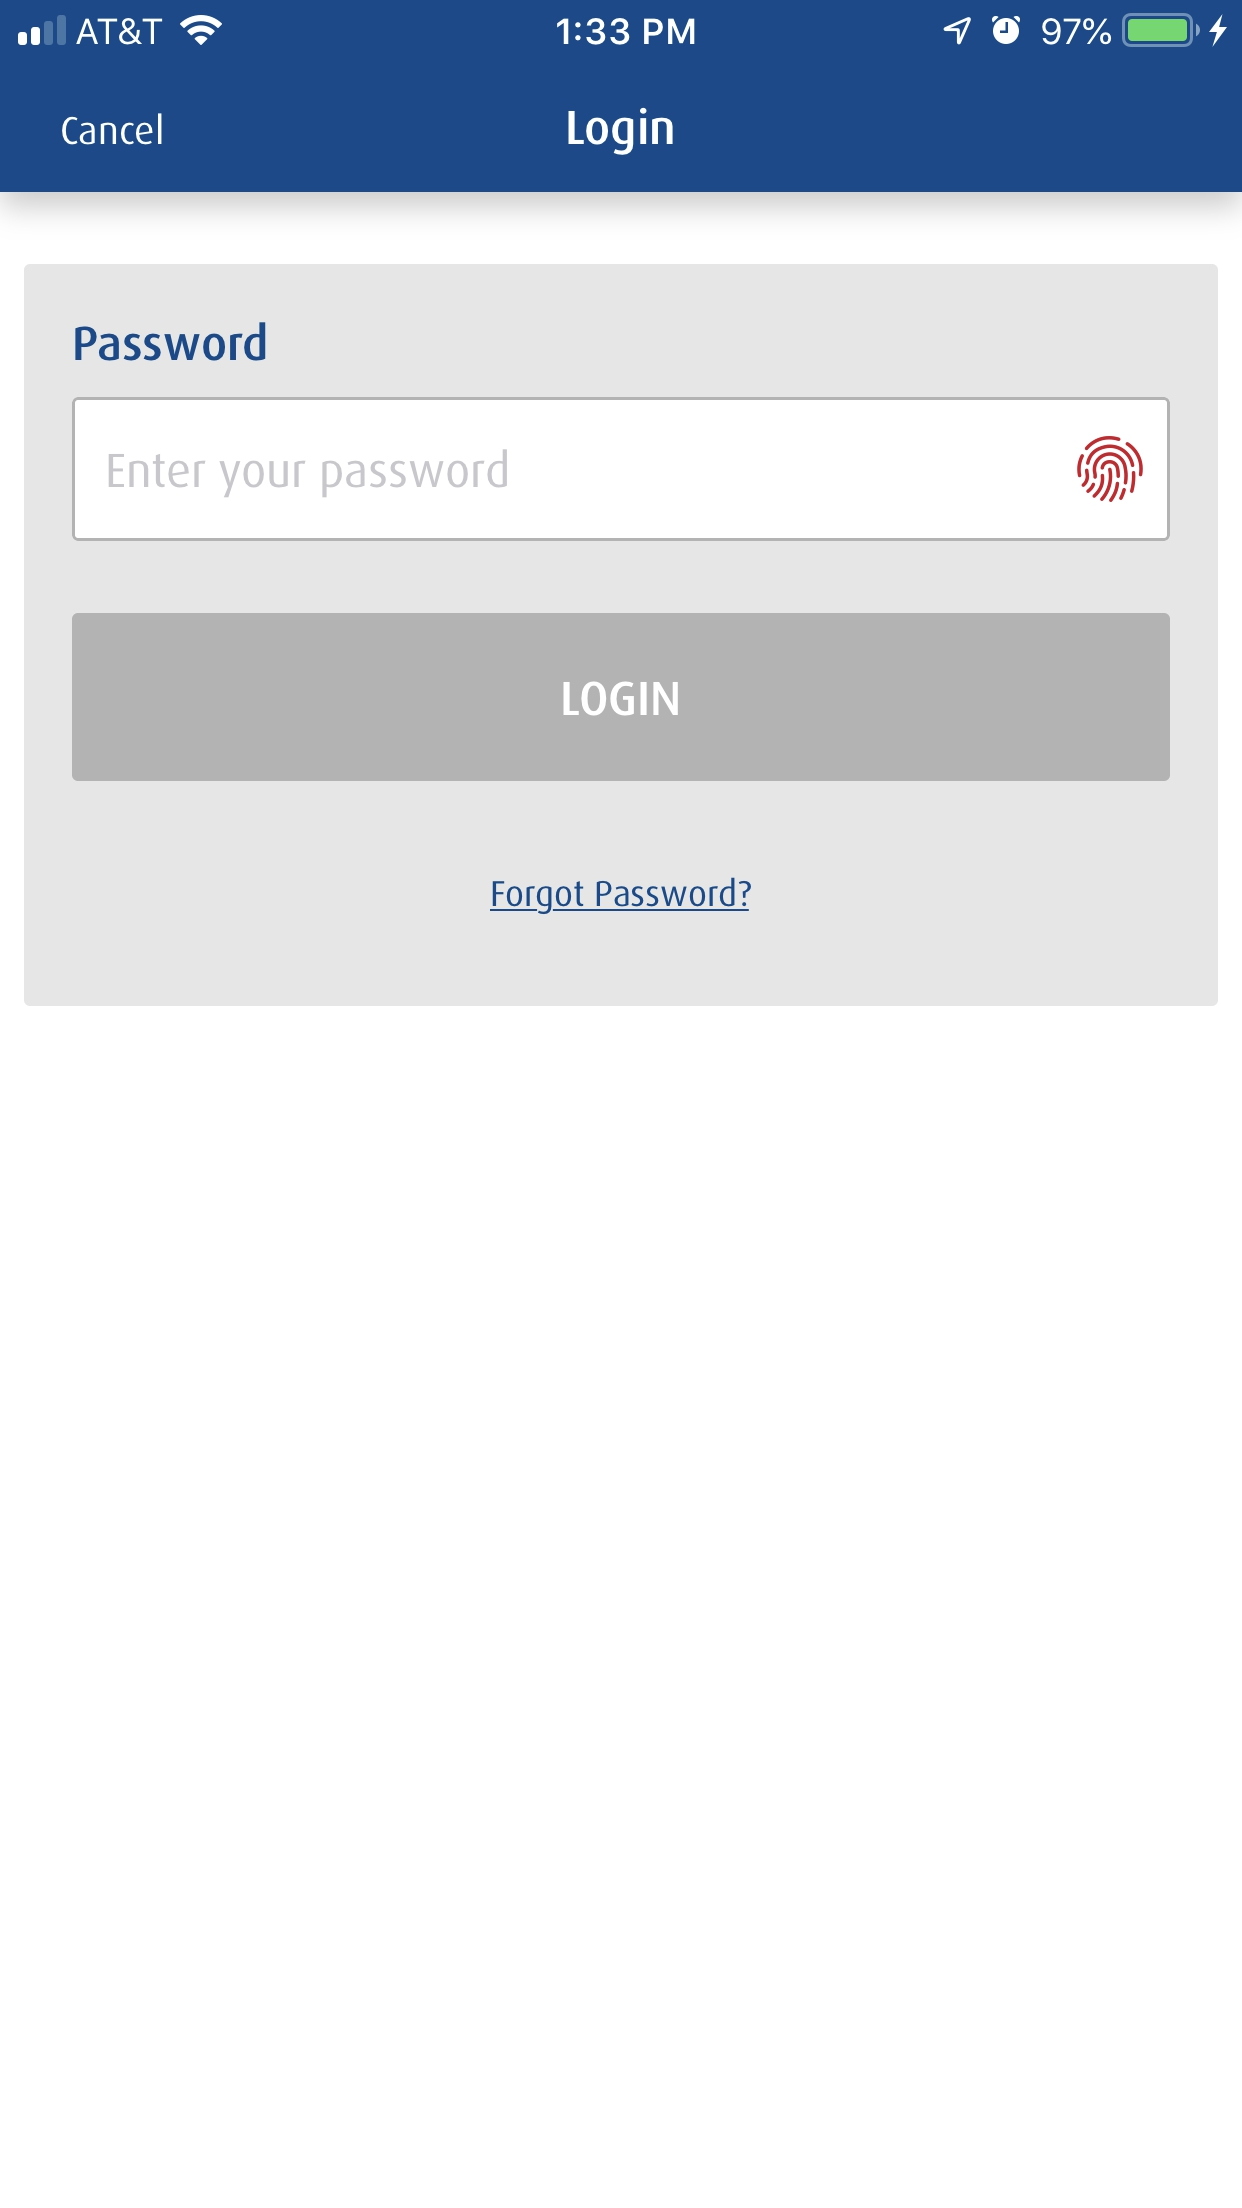EditText: (71, 397, 1171, 541)
Image: (1077, 437, 1143, 503)
Text: (109, 450, 508, 499), (491, 877, 752, 914), (74, 321, 267, 362), (569, 108, 673, 158), (62, 114, 162, 146)
TextButton: (71, 614, 1171, 783)
UpperTaskBar: (2, 2, 1242, 49)
